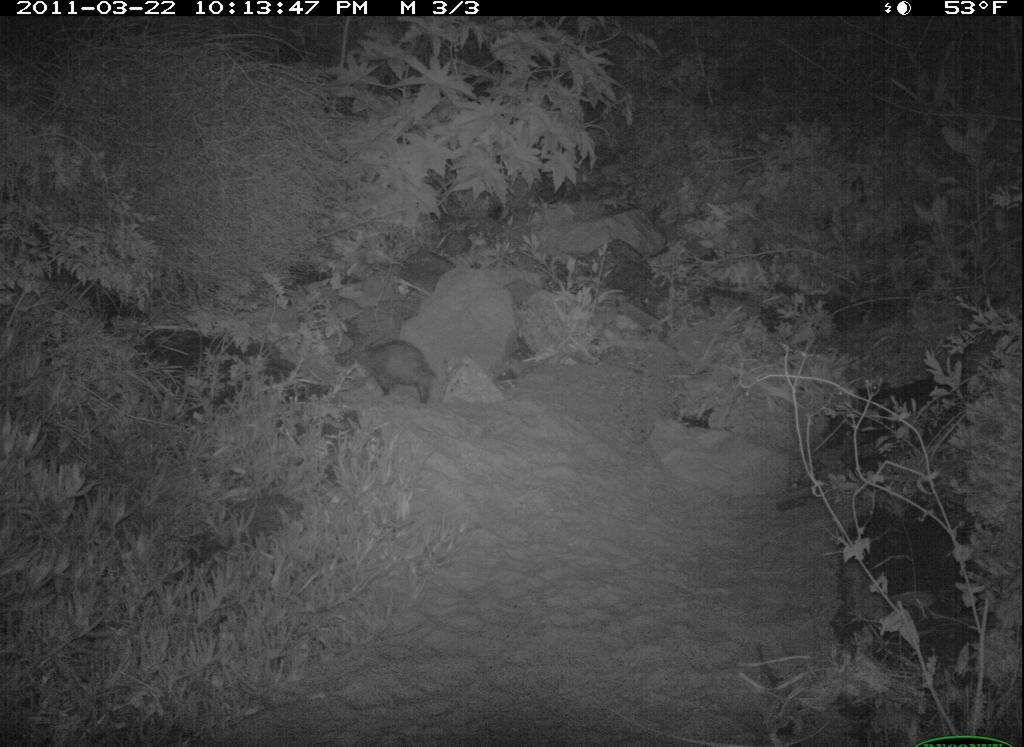opossum: (330, 330, 440, 418)
